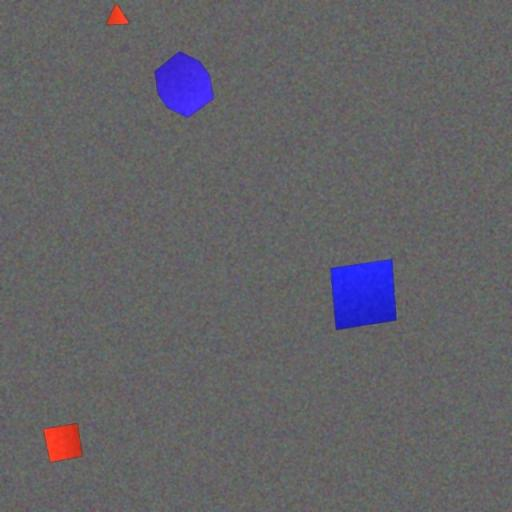BLUE_SQUARE: (330, 258, 398, 330)
RED_SQUARE: (43, 422, 83, 464)
